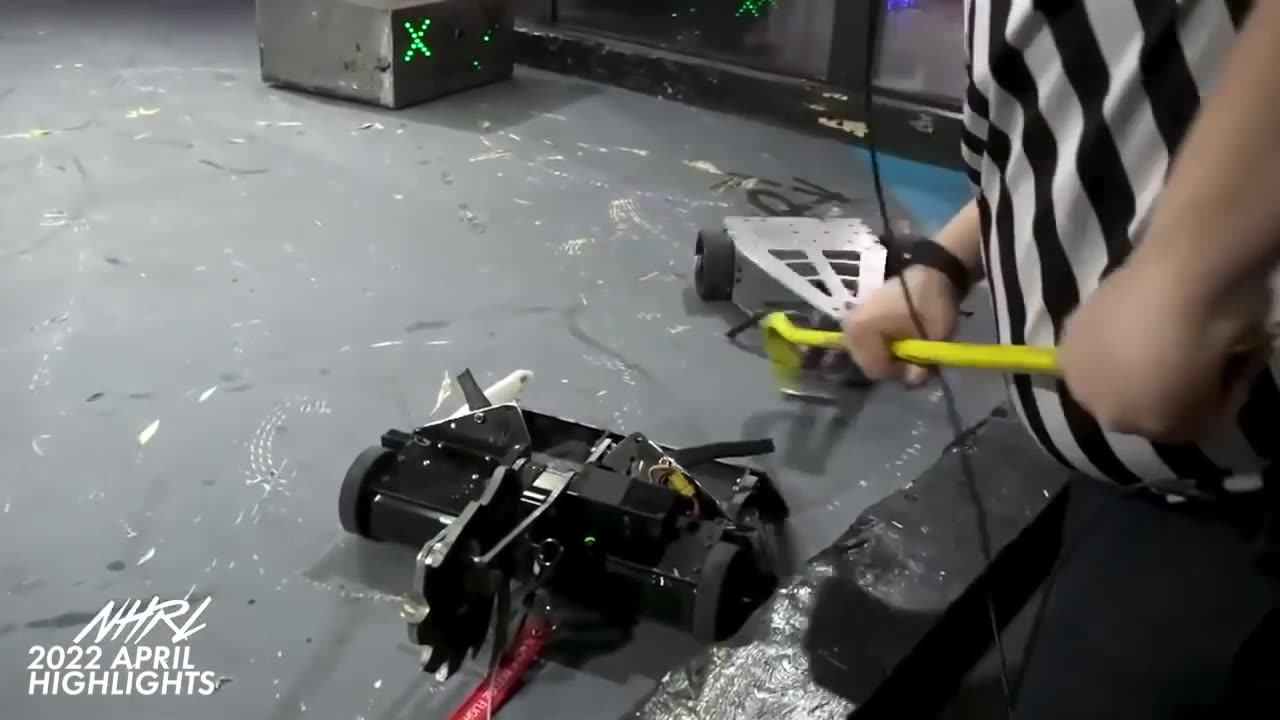combatbot: (324, 367, 797, 717), (688, 214, 891, 401)
housebot: (257, 1, 518, 111)
